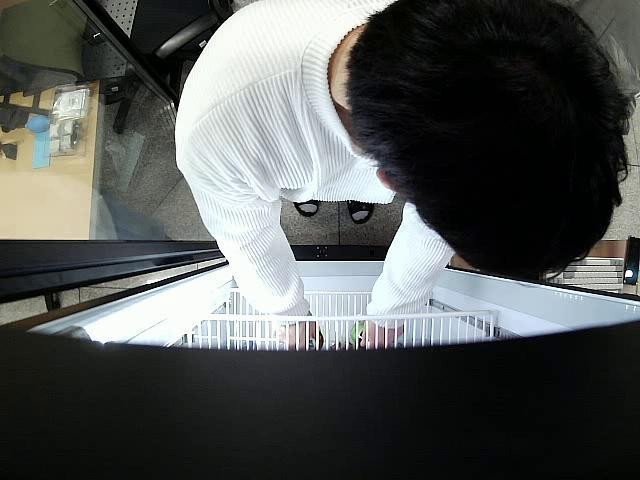19_17cha: (310, 330, 324, 351), (351, 322, 363, 342)
